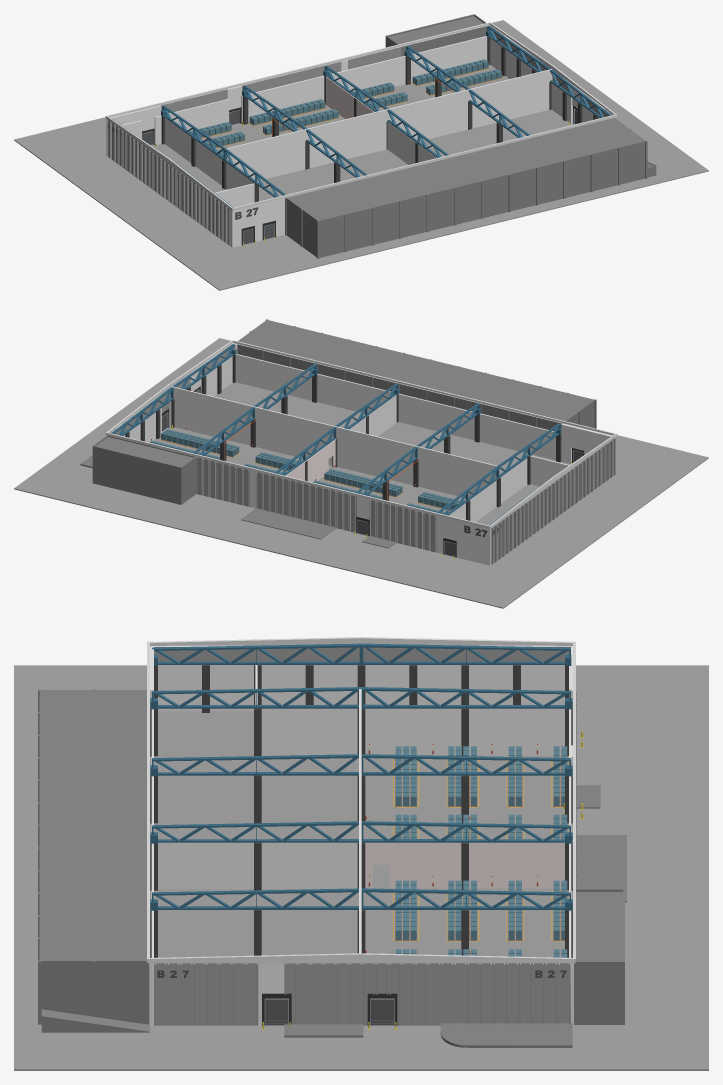
3 renders of one model, top to bottom at view 1: azimuth 30°, elevation 25°; view 2: azimuth 150°, elevation 25°; view 3: azimuth 270°, elevation 25°, orthographic. The views are drawn at different scales.
Parts seen in each view (by area): view 1: Move_This_00, D-Zone-Baseline, E-Zone-Baseline-Dead, F-Zone-Baseline-Dead, Floor All, Roof Complete, Middle_Wall_006, A-Zone-Baseline, Ramp_004, C-Zone-Baseline, Gate_Wall_004, Gerenda 002 (+6 smaller); view 2: Move_This_00, D-Zone-Baseline, Floor All, E-Zone-Baseline-Dead, F-Zone-Baseline-Dead, C-Zone-Baseline, Ramp_004, Roof Complete, B-Zone-Baseline, Middle_Wall_006, A-Zone-Baseline, Gate_Wall_003 (+8 smaller); view 3: Move_This_00, Floor All, A-Zone-Baseline, F-Zone-Baseline-Dead, E-Zone-Baseline-Dead, C-Zone-Baseline, Roof Complete, FireWall_001, Ramp_004, Gerenda 002, Gerenda 003, Gerenda 004 (+38 smaller).
Boxes of the visible parts, bbox=[...] form: Move_This_00: bbox=[14, 20, 708, 290]; D-Zone-Baseline: bbox=[169, 36, 549, 180]; E-Zone-Baseline-Dead: bbox=[286, 158, 481, 257]; F-Zone-Baseline-Dead: bbox=[451, 118, 645, 217]; Floor All: bbox=[152, 65, 571, 201]; Roof Complete: bbox=[105, 22, 617, 210]; Middle_Wall_006: bbox=[226, 69, 552, 160]; A-Zone-Baseline: bbox=[122, 115, 254, 207]; Ramp_004: bbox=[385, 14, 489, 56]; C-Zone-Baseline: bbox=[387, 83, 599, 164]; Gate_Wall_004: bbox=[231, 198, 284, 247]; Gerenda 002: bbox=[161, 105, 285, 197]; Move_This_00: bbox=[14, 338, 708, 608]; D-Zone-Baseline: bbox=[123, 399, 494, 497]; Floor All: bbox=[153, 382, 570, 525]; E-Zone-Baseline-Dead: bbox=[400, 360, 594, 431]; F-Zone-Baseline-Dead: bbox=[237, 320, 429, 391]; C-Zone-Baseline: bbox=[190, 354, 396, 436]; Ramp_004: bbox=[92, 435, 196, 504]; Roof Complete: bbox=[105, 340, 617, 528]; B-Zone-Baseline: bbox=[398, 393, 555, 460]; Middle_Wall_006: bbox=[171, 386, 496, 477]; A-Zone-Baseline: bbox=[448, 456, 569, 522]; Gate_Wall_003: bbox=[436, 516, 491, 565]; Move_This_00: bbox=[14, 665, 708, 1070]; Floor All: bbox=[154, 711, 568, 957]; A-Zone-Baseline: bbox=[255, 665, 571, 755]; F-Zone-Baseline-Dead: bbox=[39, 825, 147, 1023]; E-Zone-Baseline-Dead: bbox=[39, 690, 146, 825]; C-Zone-Baseline: bbox=[151, 842, 357, 957]; Roof Complete: bbox=[147, 637, 575, 963]; FireWall_001: bbox=[365, 842, 564, 888]; Ramp_004: bbox=[574, 888, 624, 1024]; Gerenda 002: bbox=[150, 687, 572, 709]; Gerenda 003: bbox=[150, 754, 572, 776]; Gerenda 004: bbox=[150, 821, 572, 843].
Size of what is drawn, in the model's own units: 11000 by 930 by 8000.
